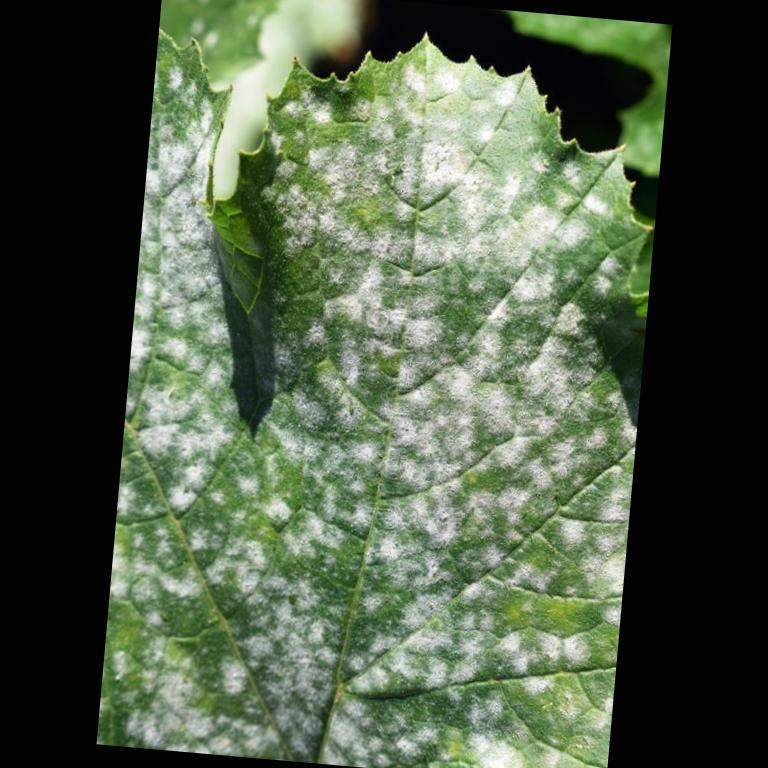powdery-mildew: (114, 351, 364, 755), (393, 424, 614, 738)
